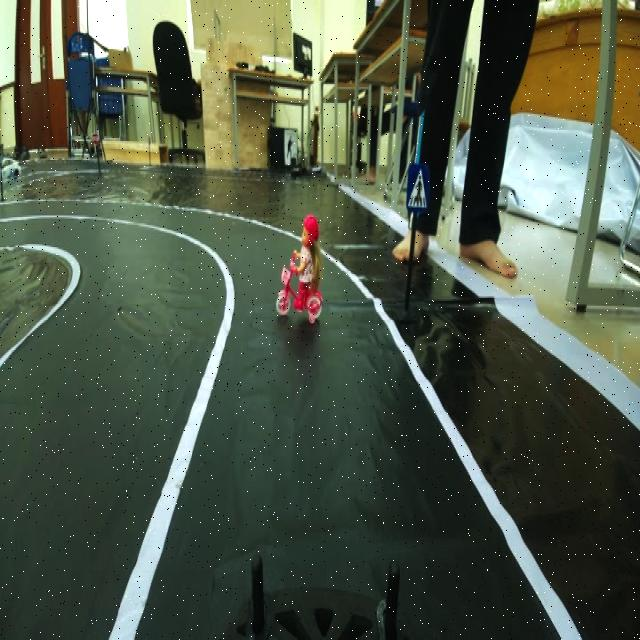crosswalk: (404, 157, 433, 220)
pedestrian: (277, 213, 330, 330)
